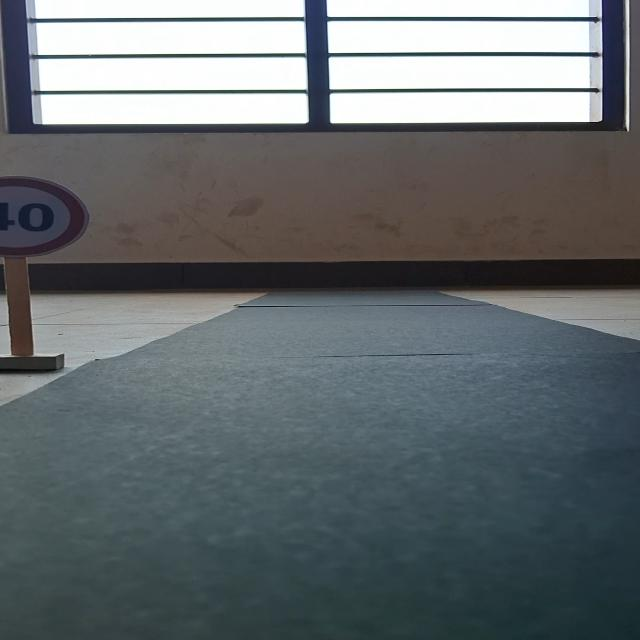Speed40: (0, 169, 90, 258)
